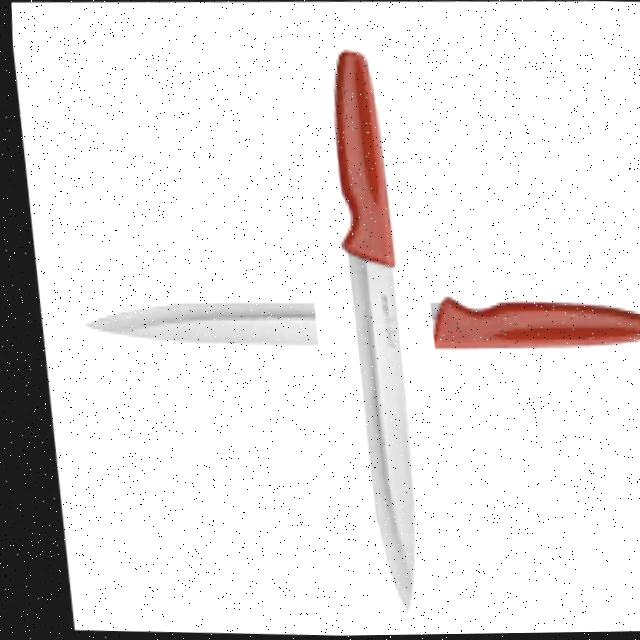knife: (311, 46, 430, 613), (79, 282, 640, 365)
